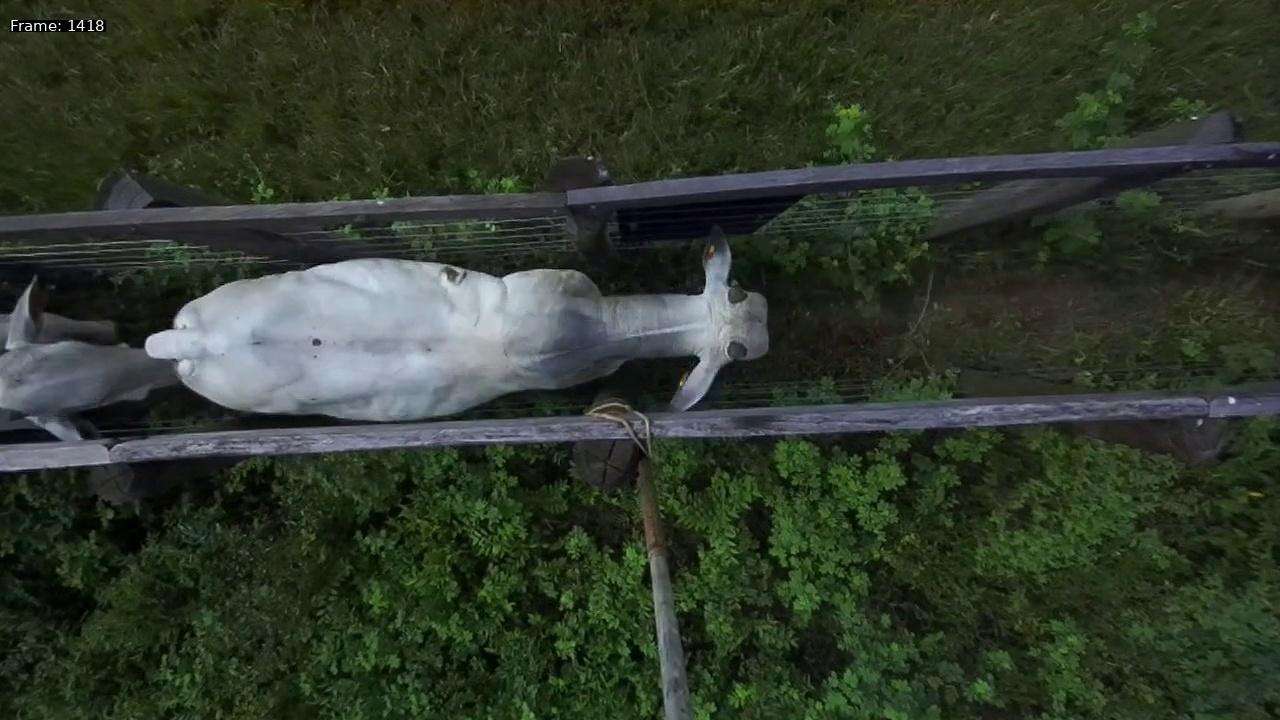cattle: (130, 225, 783, 425)
